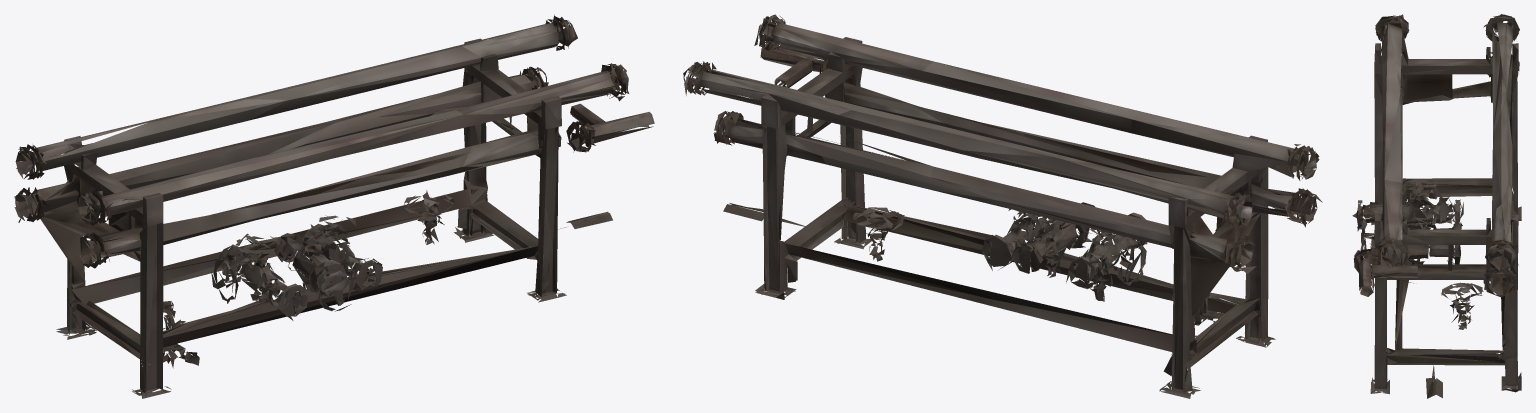
The model's file is pipe_rack.glb.
3 renders of one model, left to right at view 1: azimuth 30°, elevation 25°; view 2: azimuth 150°, elevation 25°; view 3: azimuth 270°, elevation 25°, orthographic. The views are drawn at different scales.
Parts seen in each view (by area): view 1: Mesh_0; view 2: Mesh_0; view 3: Mesh_0.
Part boxes in pixels (<box>): Mesh_0: <box>14,14,654,398</box>; Mesh_0: <box>683,14,1322,398</box>; Mesh_0: <box>1352,14,1521,398</box>.
Size of the model in its own units: 1.92 by 0.7014 by 0.5773.
1 material, 1 textured.
